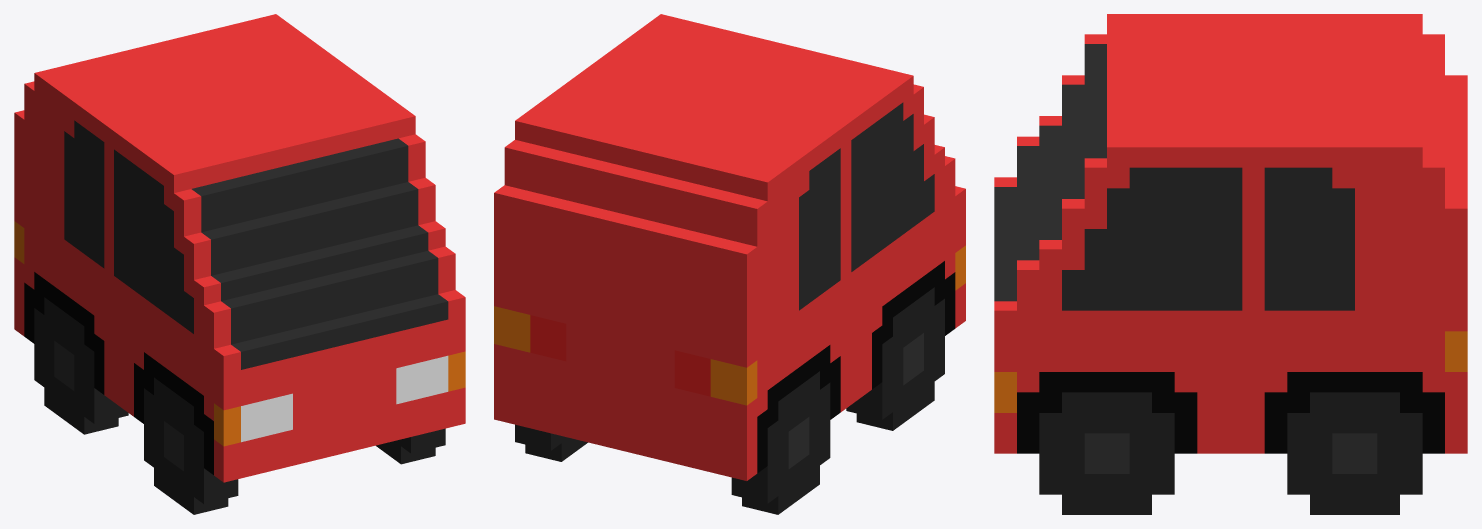
The model's file is kit-voxel-micro-red.glb.
3 views of the same model, side by side, from view 1: azimuth 30°, elevation 25°; view 2: azimuth 150°, elevation 25°; view 3: azimuth 270°, elevation 25° (orthographic). The views are drawn at different scales.
Parts seen in each view (by area): view 1: geometry_1; view 2: geometry_1; view 3: geometry_1.
Part boxes in pixels (x1,y1,x2,y2): geometry_1: (14, 14, 465, 514); geometry_1: (494, 14, 965, 514); geometry_1: (994, 14, 1467, 514).
Bounding box in the file's own units: 1.4 × 1.8 × 2.1.
1 material, 1 textured.
